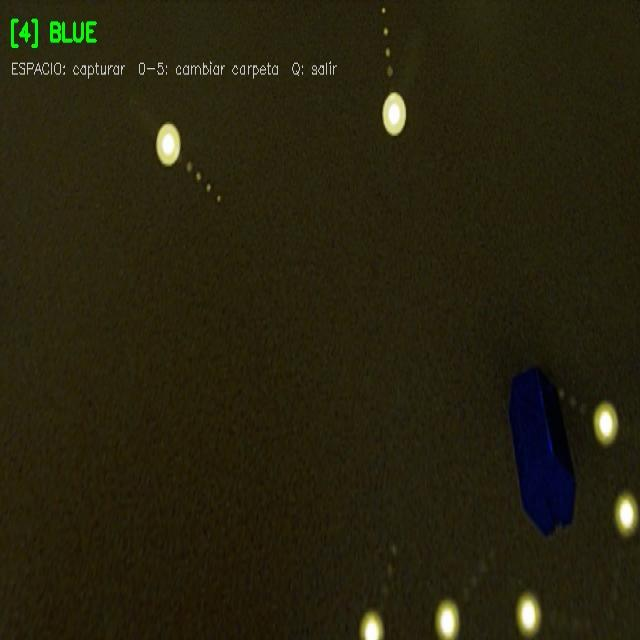blue: (503, 359, 576, 537)
